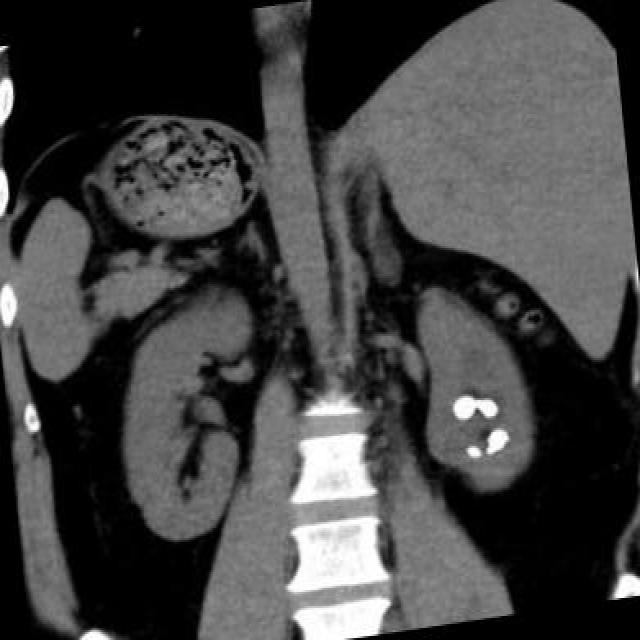Tas_Var: (448, 390, 476, 422), (482, 426, 510, 458), (473, 394, 499, 422), (462, 439, 482, 463)
